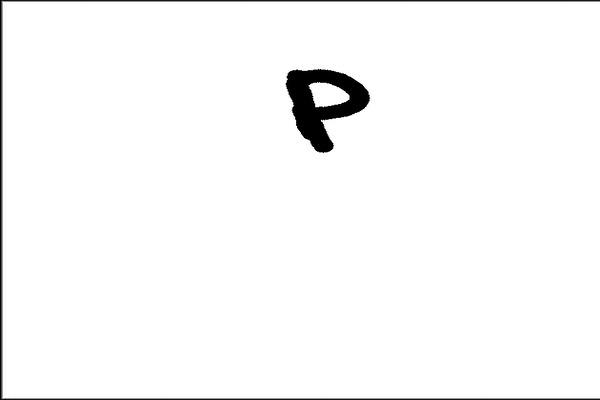P: (275, 63, 385, 162)
